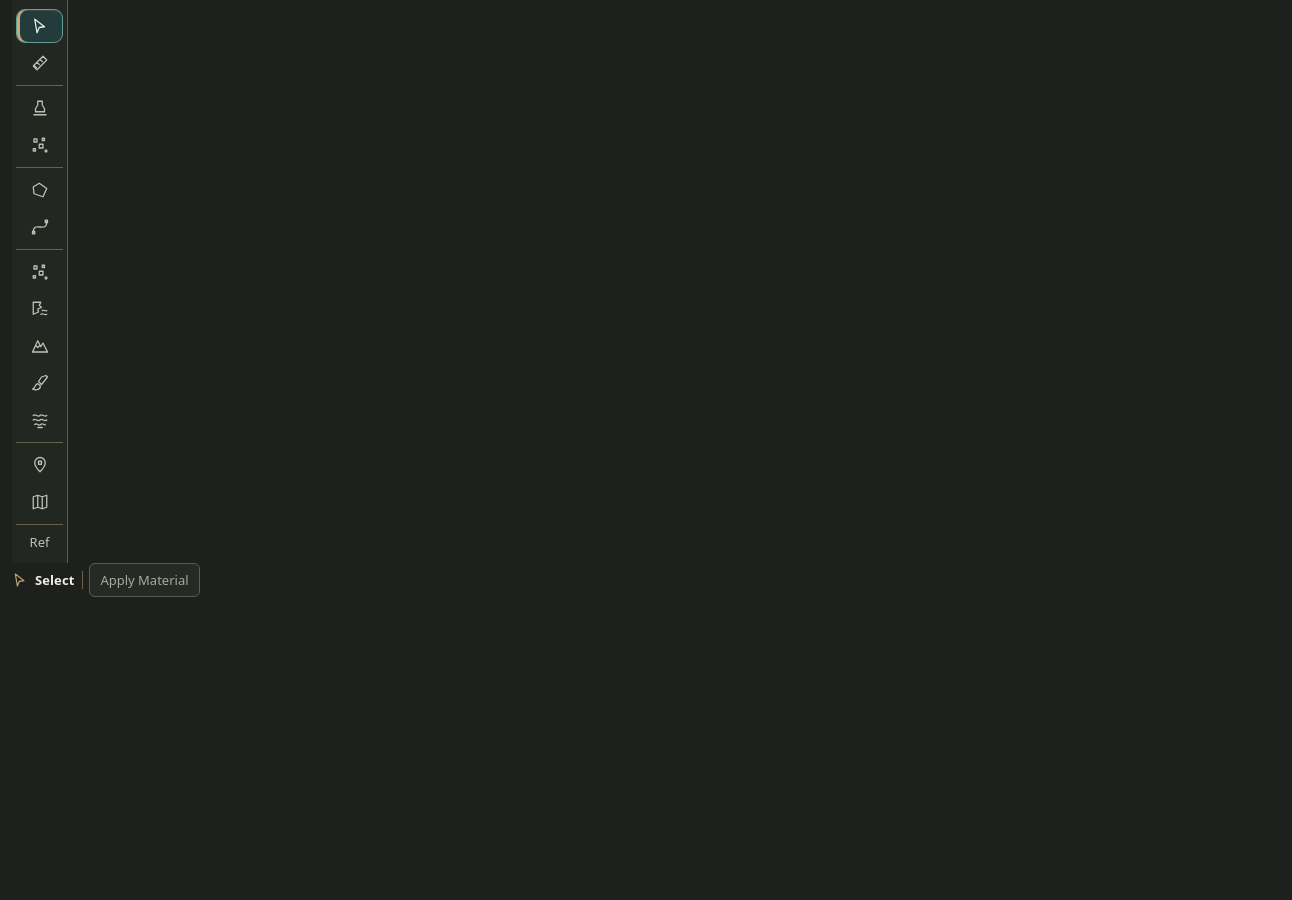
Test: separates generic Area from biome creation and active identity
Click the button named "Terrain Region" at (40, 346), box 16,329 -> 63,363
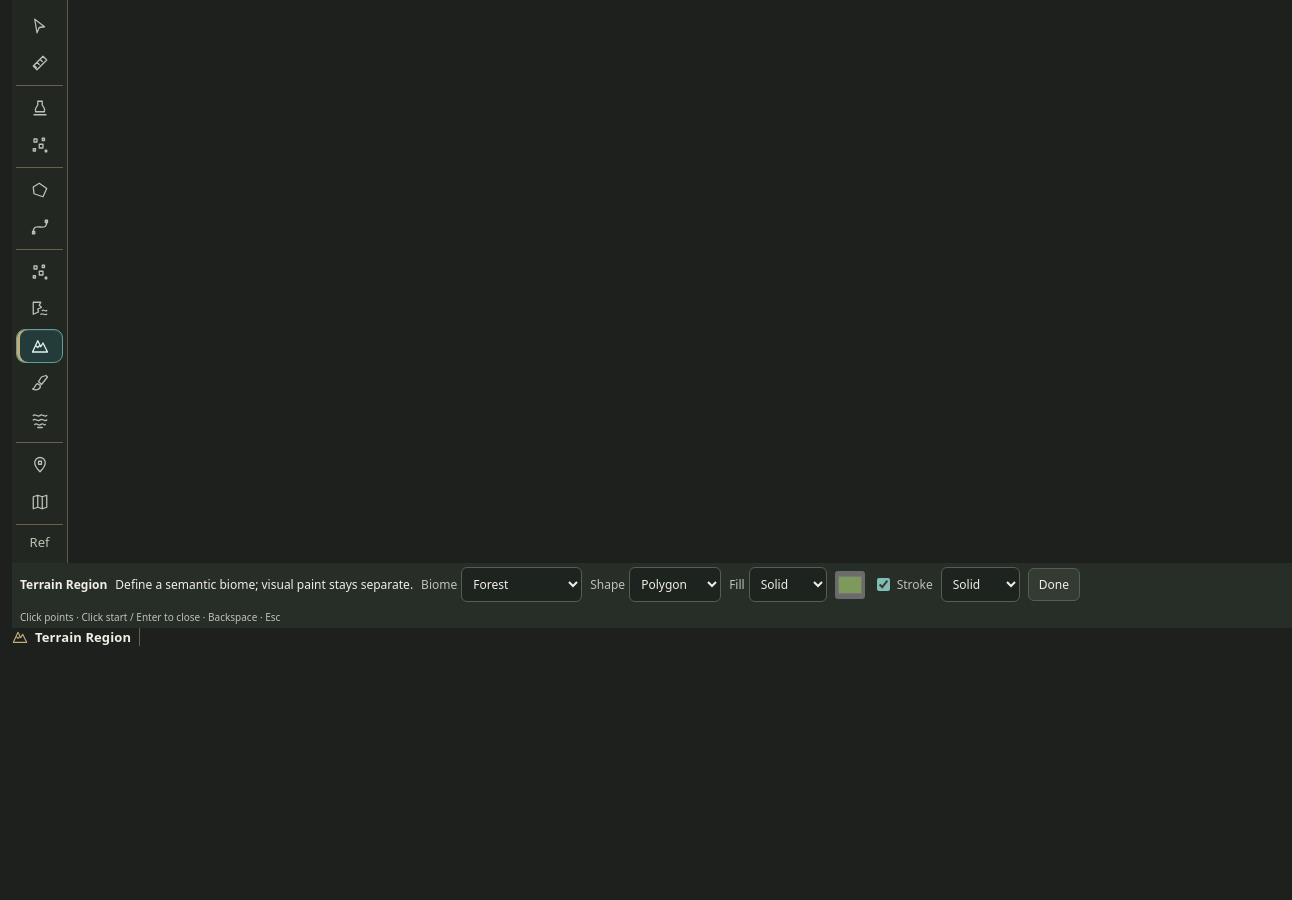
Select "Swamp" in the dropdown labelled "Biome" at (522, 584), box 461,567 -> 582,602
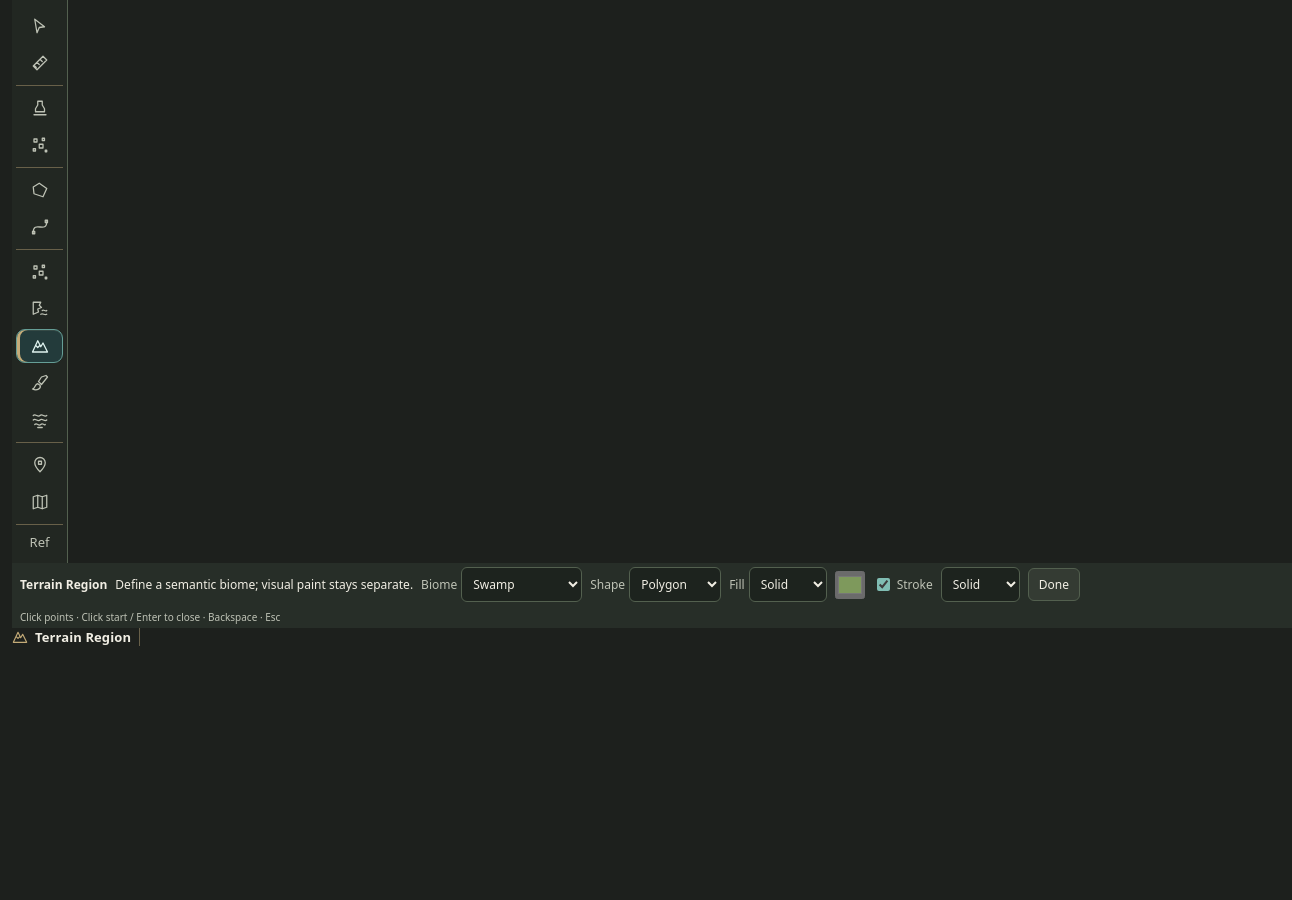
Click the button named "Area" at (40, 190), box 16,173 -> 63,207
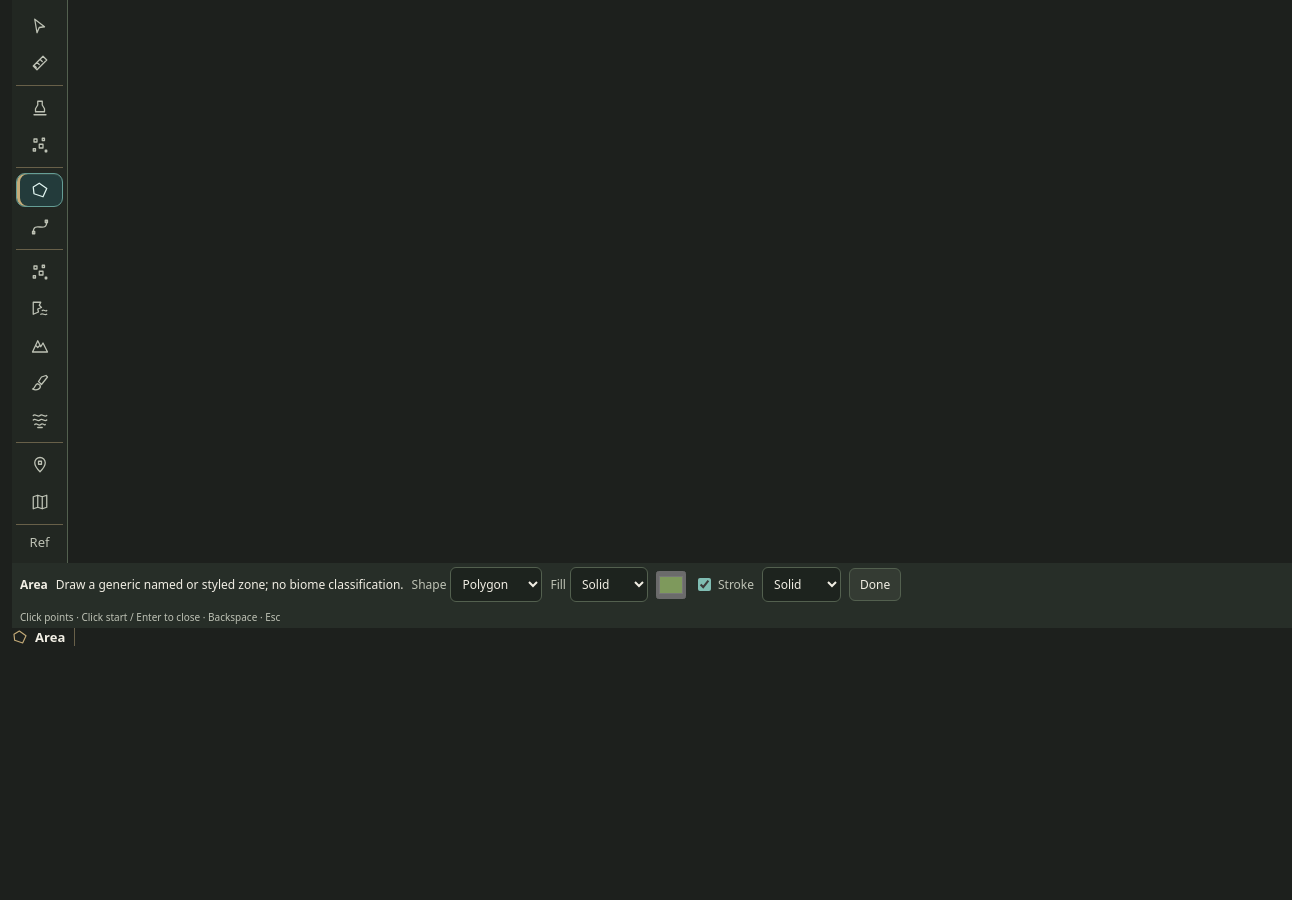
Expected: the text "no biome classification" is shown, 56,576 -> 404,593
